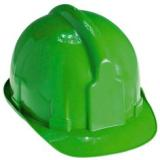Helmet: (2, 4, 158, 157)
